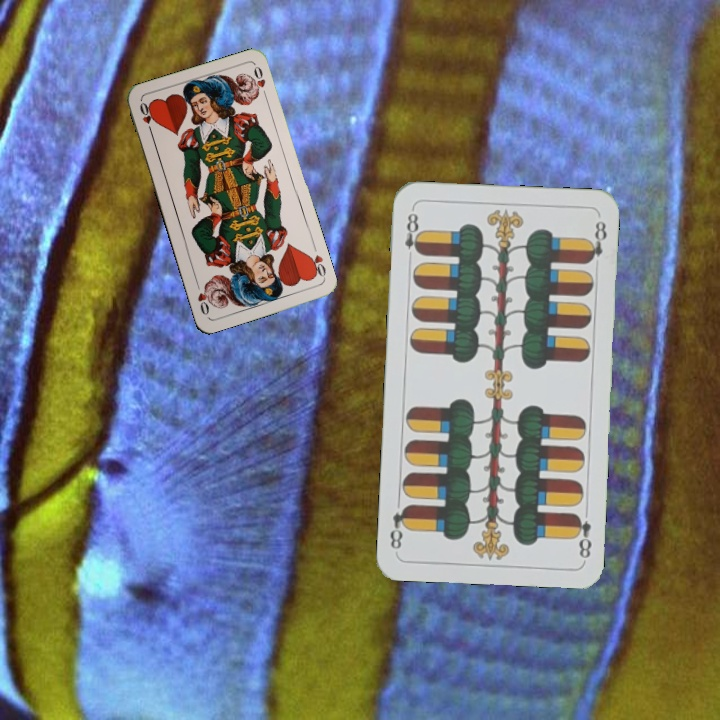E8: (570, 509, 595, 561), (401, 205, 424, 257)
HO: (135, 98, 156, 138), (304, 250, 328, 281)
